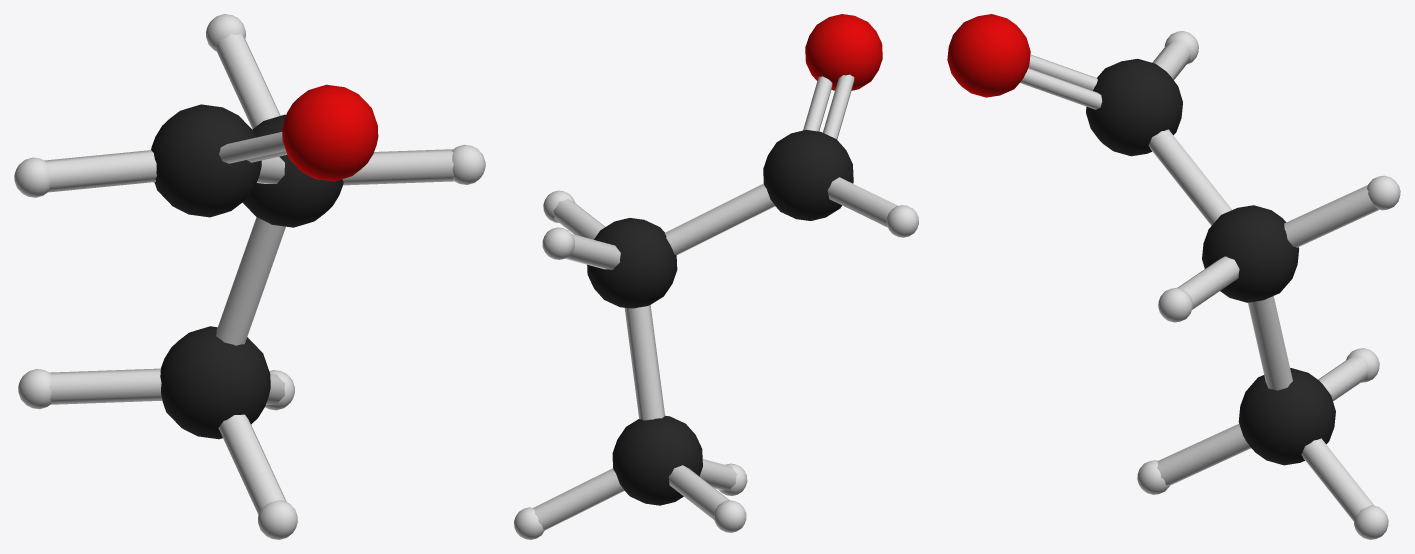
The model's file is Propanal.fbx.
3 views of the same model, side by side, from view 1: azimuth 30°, elevation 25°; view 2: azimuth 150°, elevation 25°; view 3: azimuth 270°, elevation 25° (orthographic). The views are drawn at different scales.
Visible parts, largest first — view 1: Group3, Group1, Group4, Group2, Group12, Group20, Group15, Group17, Group19, Group16, Group14, Group9 (+5 smaller); view 2: Group1, Group3, Group2, Group4, Group12, Group11, Group18, Group15, Group20, Group16, Group17, Group14 (+6 smaller); view 3: Group1, Group3, Group2, Group4, Group11, Group16, Group19, Group12, Group18, Group17, Group13, Group20 (+6 smaller).
Boxes of the visible parts, box(x1,y1,x2,y2) form: Group3: box(160, 326, 270, 439); Group1: box(151, 104, 261, 217); Group4: box(282, 84, 378, 181); Group2: box(242, 114, 343, 227); Group12: box(216, 217, 285, 345); Group20: box(49, 368, 162, 404); Group15: box(45, 150, 156, 192); Group17: box(342, 149, 454, 185); Group19: box(218, 414, 286, 514); Group16: box(215, 33, 280, 128); Group14: box(219, 132, 285, 163); Group9: box(258, 500, 297, 539); Group1: box(763, 130, 853, 220); Group3: box(612, 415, 702, 505); Group2: box(587, 218, 677, 308); Group4: box(805, 14, 882, 90); Group12: box(624, 305, 664, 420); Group11: box(664, 183, 774, 255); Group18: box(533, 468, 624, 530); Group15: box(827, 177, 897, 227); Group20: box(668, 465, 729, 519); Group16: box(565, 234, 620, 269); Group17: box(553, 198, 605, 239); Group14: box(823, 74, 854, 139); Group1: box(1086, 58, 1182, 156); Group3: box(1238, 368, 1335, 465); Group2: box(1202, 205, 1298, 302); Group4: box(947, 14, 1030, 97); Group11: box(1148, 129, 1231, 225); Group16: box(1284, 185, 1379, 247); Group19: box(1157, 424, 1250, 485); Group12: box(1248, 296, 1292, 390); Group18: box(1301, 438, 1374, 521); Group17: box(1177, 256, 1239, 309); Group13: box(1020, 68, 1102, 109); Group20: box(1318, 355, 1368, 401).
Bounding box in the file's own units: 259 × 284 × 255.
